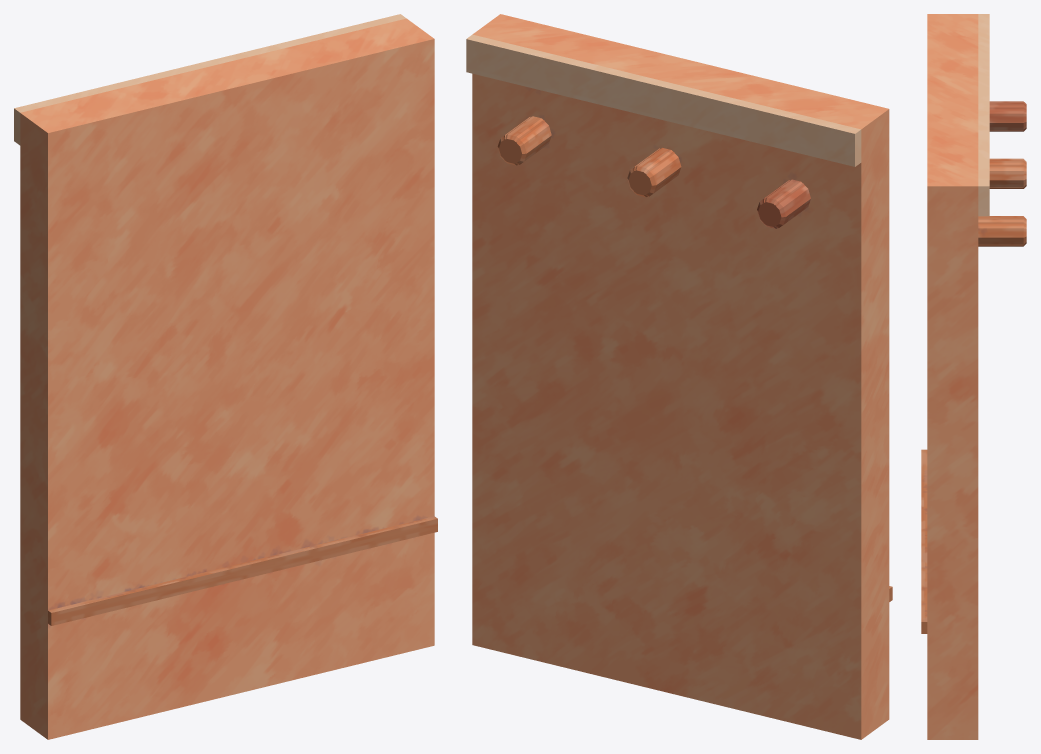
The model's file is wall2_upper.bundle.fbx.
3 views of the same model, side by side, from view 1: azimuth 30°, elevation 25°; view 2: azimuth 150°, elevation 25°; view 3: azimuth 270°, elevation 25° (orthographic). The views are drawn at different scales.
Parts seen in each view (by area): view 1: wall2_upper, wall2_upper_s10, wall2_upper_s04, wall2_upper_s09, wall2_upper_s02, wall2_upper_s11, wall2_upper_s01, wall2_upper_s00, wall2_upper_s07, wall2_upper_s08, wall2_upper_s03, wall2_upper_s06 (+1 smaller); view 2: wall2_upper, wall2_upper_s00, wall2_upper_s11, wall2_upper_s01, wall2_upper_s04, wall2_upper_s10, wall2_upper_s06, wall2_upper_s02, wall2_upper_s05, wall2_upper_s09, wall2_upper_s03, wall2_upper_s07 (+2 smaller); view 3: wall2_upper, wall2_upper_s09, wall2_upper_s10, wall2_upper_s04, wall2_upper_s03, wall2_upper_low.
Boxes of the visible parts, left/top/right/bottom form: wall2_upper: left=14, top=14, right=437, bottom=739; wall2_upper_s10: left=249, top=14, right=434, bottom=289; wall2_upper_s04: left=17, top=31, right=345, bottom=237; wall2_upper_s09: left=290, top=266, right=434, bottom=542; wall2_upper_s02: left=20, top=574, right=182, bottom=739; wall2_upper_s11: left=218, top=285, right=386, bottom=463; wall2_upper_s01: left=20, top=206, right=220, bottom=479; wall2_upper_s00: left=122, top=197, right=348, bottom=309; wall2_upper_s07: left=162, top=460, right=347, bottom=675; wall2_upper_s08: left=124, top=421, right=263, bottom=551; wall2_upper_s03: left=331, top=506, right=437, bottom=666; wall2_upper_s06: left=20, top=432, right=167, bottom=598; wall2_upper: left=466, top=14, right=892, bottom=739; wall2_upper_s00: left=498, top=165, right=826, bottom=315; wall2_upper_s11: left=492, top=274, right=710, bottom=472; wall2_upper_s01: left=708, top=203, right=889, bottom=459; wall2_upper_s04: left=532, top=36, right=889, bottom=229; wall2_upper_s10: left=466, top=15, right=621, bottom=274; wall2_upper_s06: left=745, top=440, right=889, bottom=609; wall2_upper_s02: left=793, top=578, right=891, bottom=739; wall2_upper_s05: left=550, top=581, right=739, bottom=683; wall2_upper_s09: left=472, top=273, right=598, bottom=537; wall2_upper_s03: left=472, top=514, right=563, bottom=657; wall2_upper_s07: left=553, top=468, right=733, bottom=645; wall2_upper: left=921, top=14, right=1026, bottom=739; wall2_upper_s09: left=921, top=394, right=978, bottom=611; wall2_upper_s10: left=927, top=147, right=989, bottom=395; wall2_upper_s04: left=927, top=14, right=989, bottom=156; wall2_upper_s03: left=921, top=603, right=978, bottom=739; wall2_upper_low: left=978, top=102, right=1026, bottom=246.
Size of the model in its own units: 8 by 12 by 2.07.
Materials: 1 (1 with a texture image).
